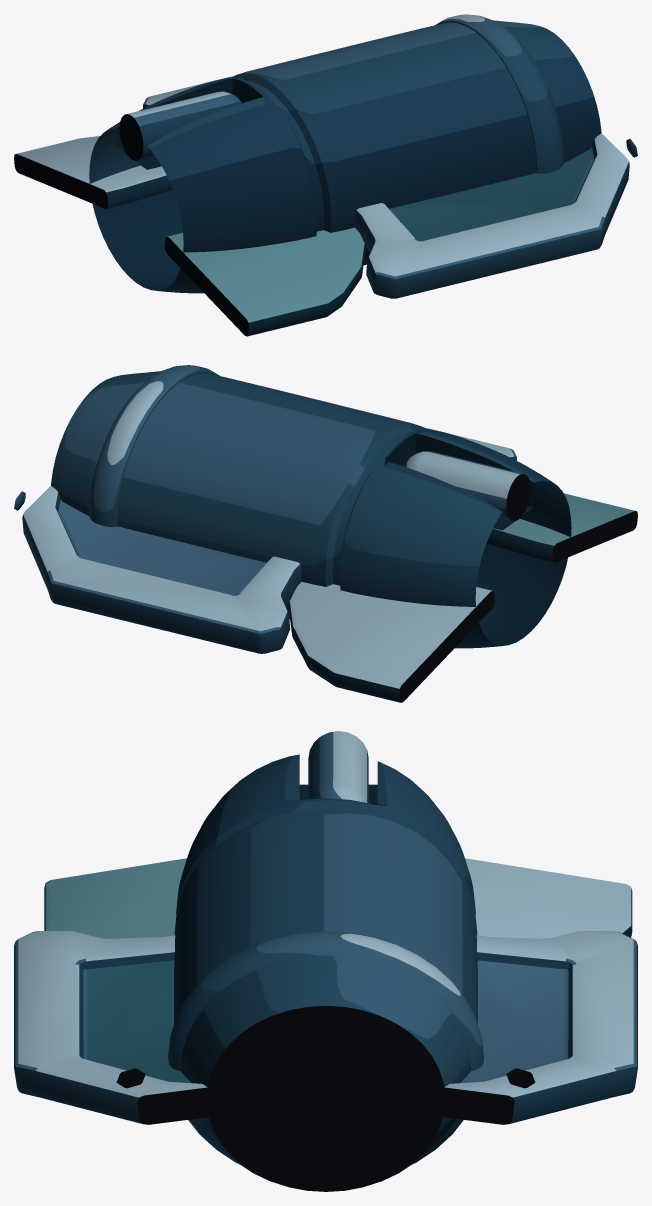
The model's file is cruiser_mid_l.glb.
The picture shows the model from 3 angles, top to bottom: view 1: azimuth 30°, elevation 25°; view 2: azimuth 150°, elevation 25°; view 3: azimuth 270°, elevation 25°; orthographic projection. The views are drawn at different scales.
Parts seen in each view (by area): view 1: cruiser_mid_l; view 2: cruiser_mid_l; view 3: cruiser_mid_l.
Part boxes in pixels (x1,y1,x2,y2): cruiser_mid_l: (14,14,637,336); cruiser_mid_l: (14,365,637,702); cruiser_mid_l: (14,731,637,1191).
Size of the model in its own units: 24 by 10.8 by 24.82.
